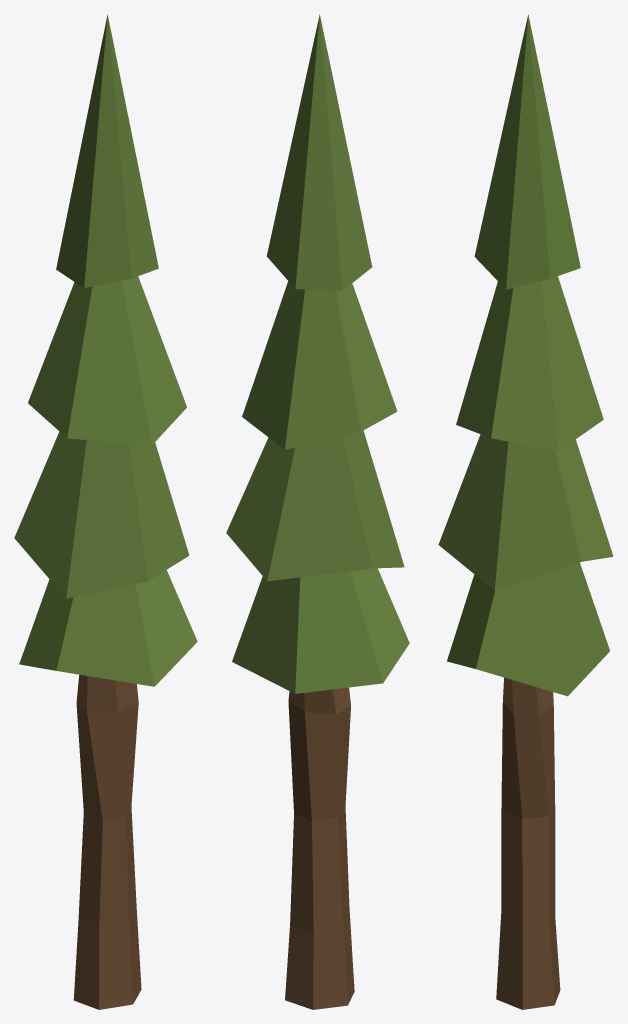
The model's file is Trees 4.fbx.
The picture shows the model from 3 angles, left to right: view 1: azimuth 30°, elevation 25°; view 2: azimuth 150°, elevation 25°; view 3: azimuth 270°, elevation 25°; orthographic projection.
Parts seen in each view (by area): view 1: Tree 1; view 2: Tree 1; view 3: Tree 1.
Part boxes in pixels (left/top/right/bottom): Tree 1: left=14, top=15, right=197, bottom=1009; Tree 1: left=226, top=14, right=409, bottom=1009; Tree 1: left=438, top=15, right=613, bottom=1009.
Size of the model in its own units: 203 by 1320 by 214.
